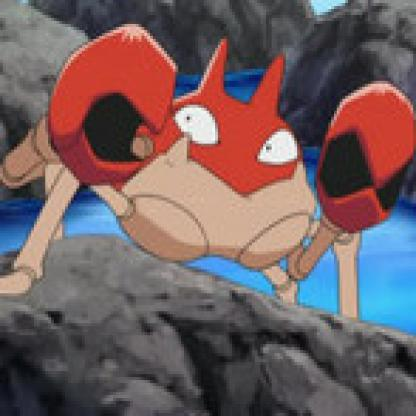Krabby: (3, 18, 415, 338)
